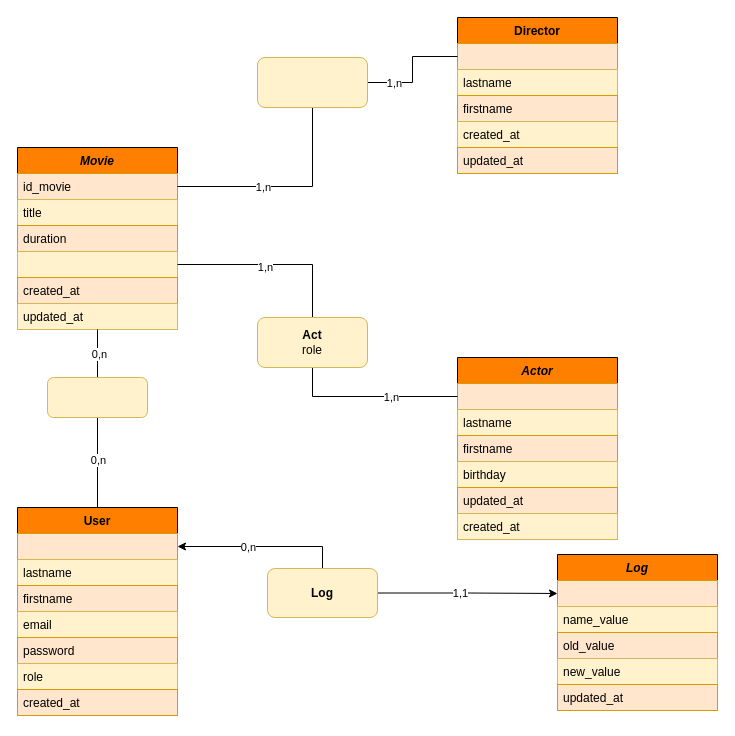
This 735x736 diagram has some shape labels left out. Here are the shapes that lost their labels. From the top down, the box of each, then its label:
(456, 42, 618, 70): id_director
(256, 56, 368, 108): Direct
(16, 250, 178, 278): year
(46, 376, 148, 418): Like
(456, 382, 618, 410): id_actor
(16, 532, 178, 560): id_user
(556, 580, 718, 606): id_log
